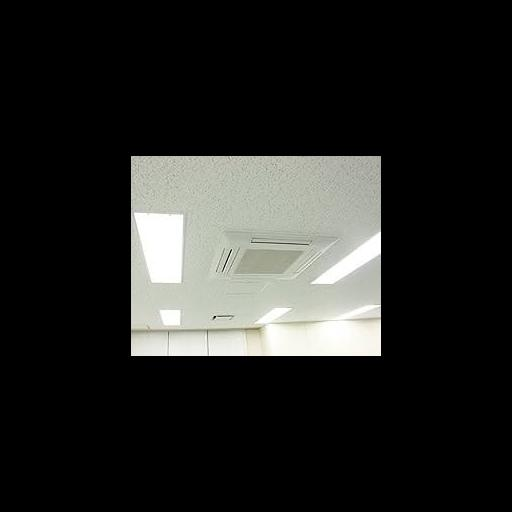4-way-ac: (207, 233, 341, 280)
